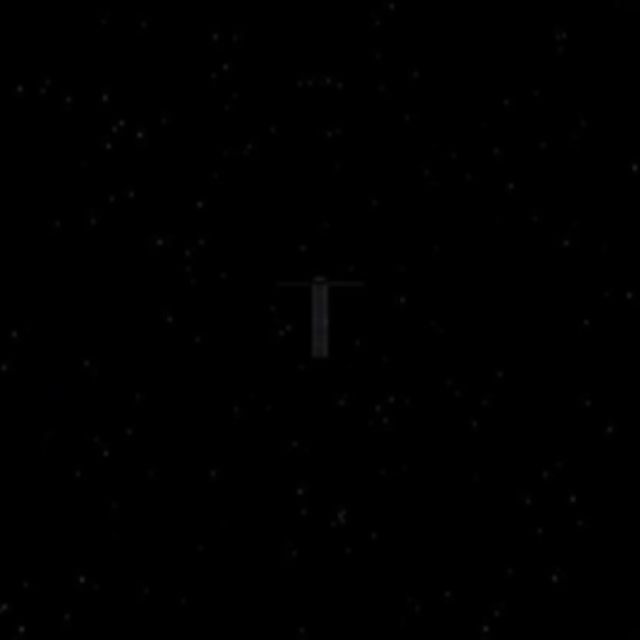satellite: (271, 269, 369, 358)
